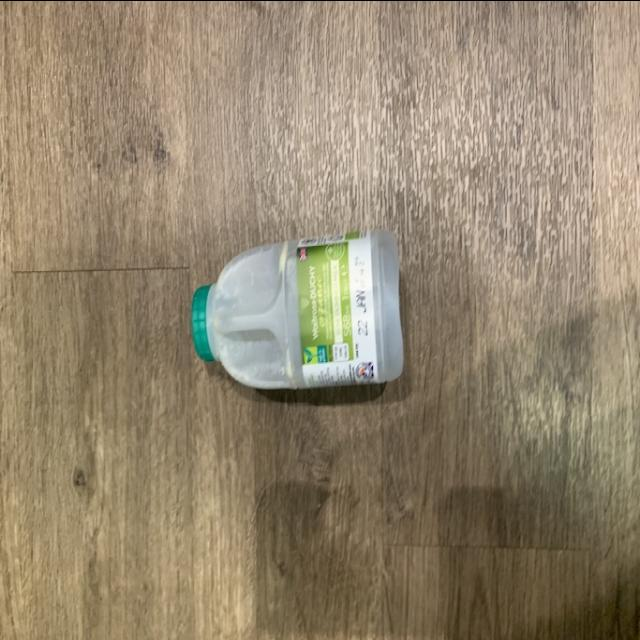HDPEM: (192, 220, 408, 394)
